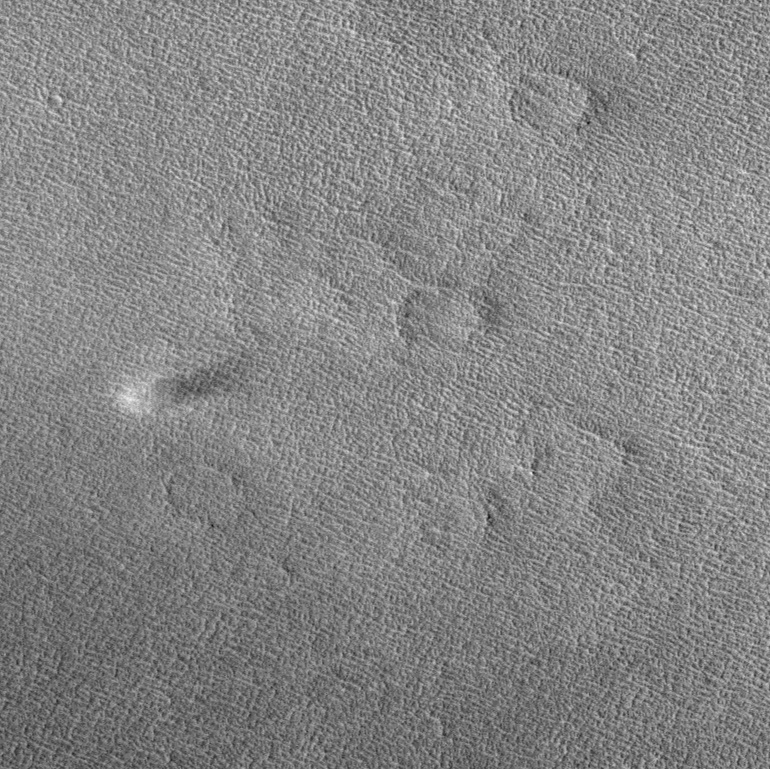dust_devil: (112, 353, 253, 420)
